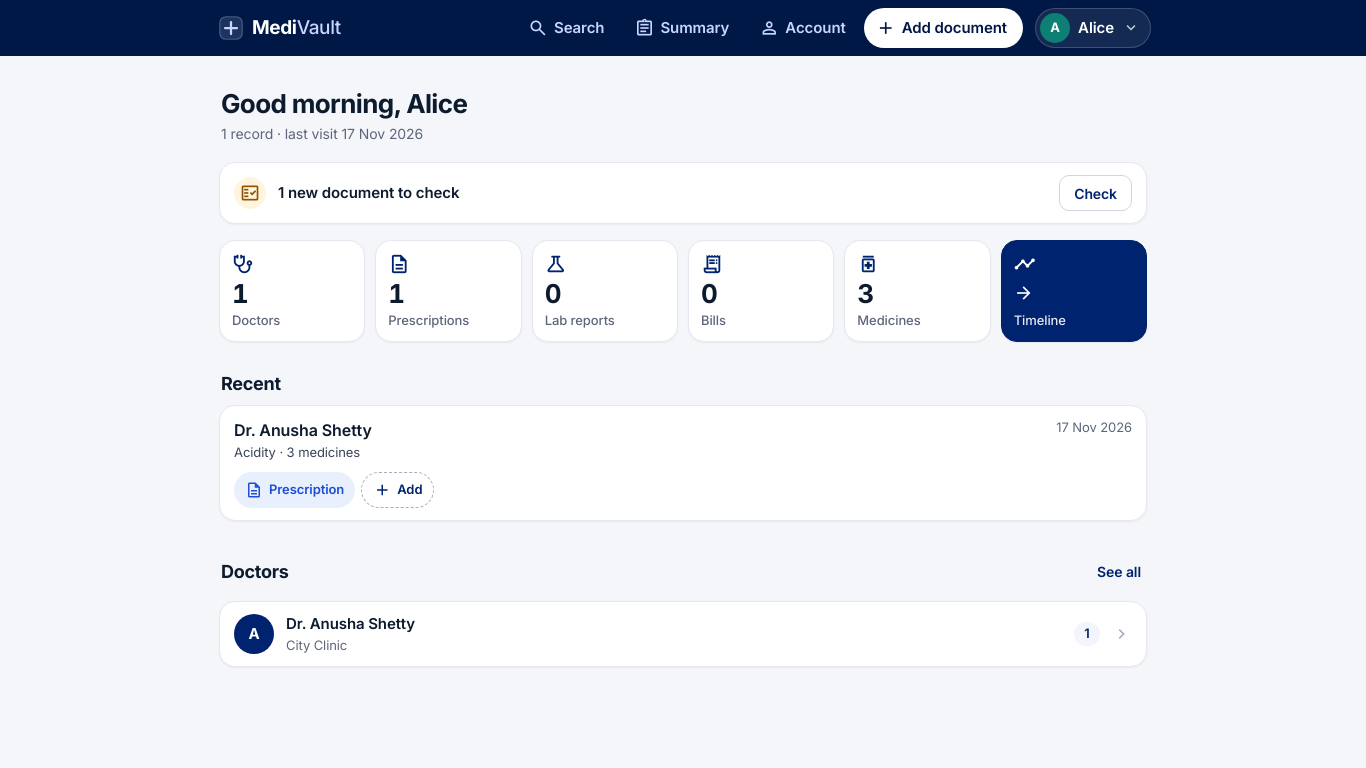
Test: the list still works when the medicine check cannot be reached
Click the button "Check".
click(1096, 193)  # box [1059,175,1132,211]
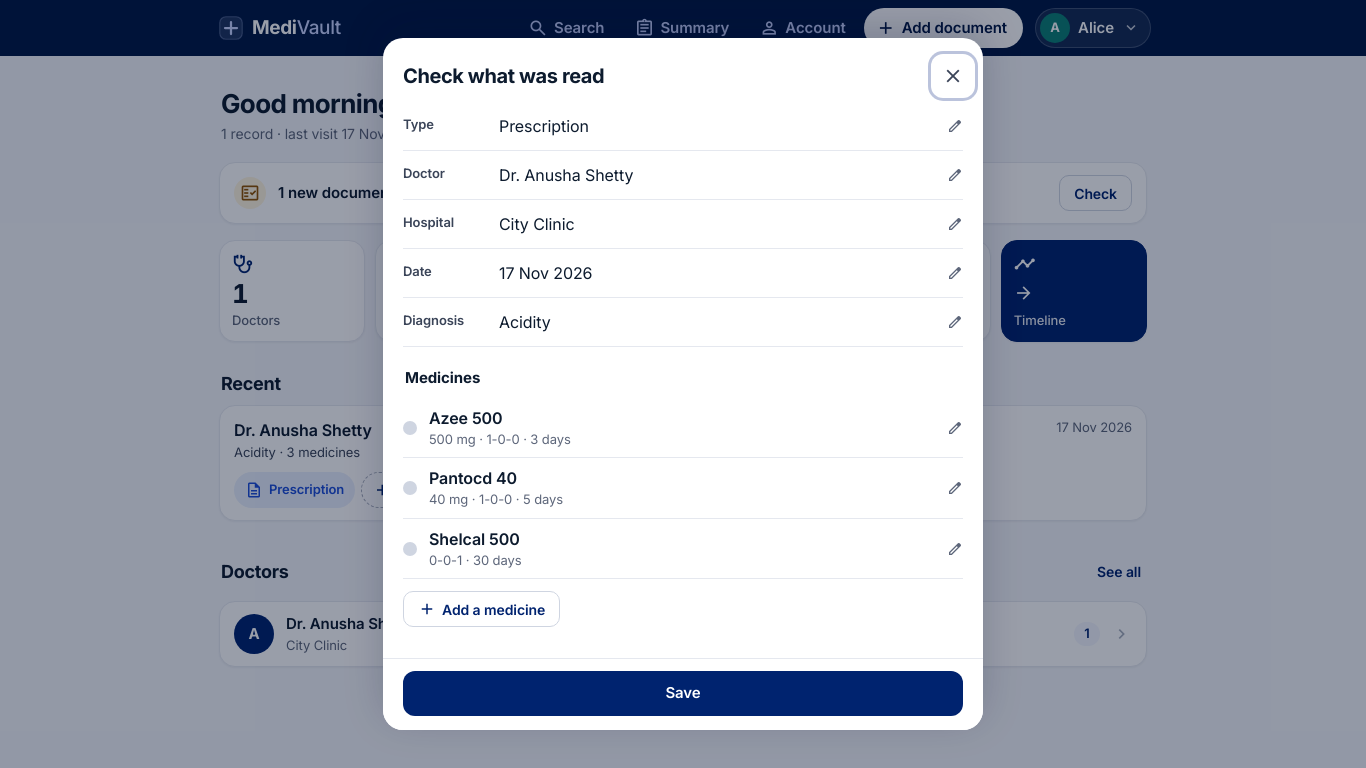
Now the number of pictures named "Not checked against the list" is 3, box [403,421,417,435]; [403,481,417,495]; [403,542,417,556]
Now the button "Save" is enabled, box [403,671,963,716]
